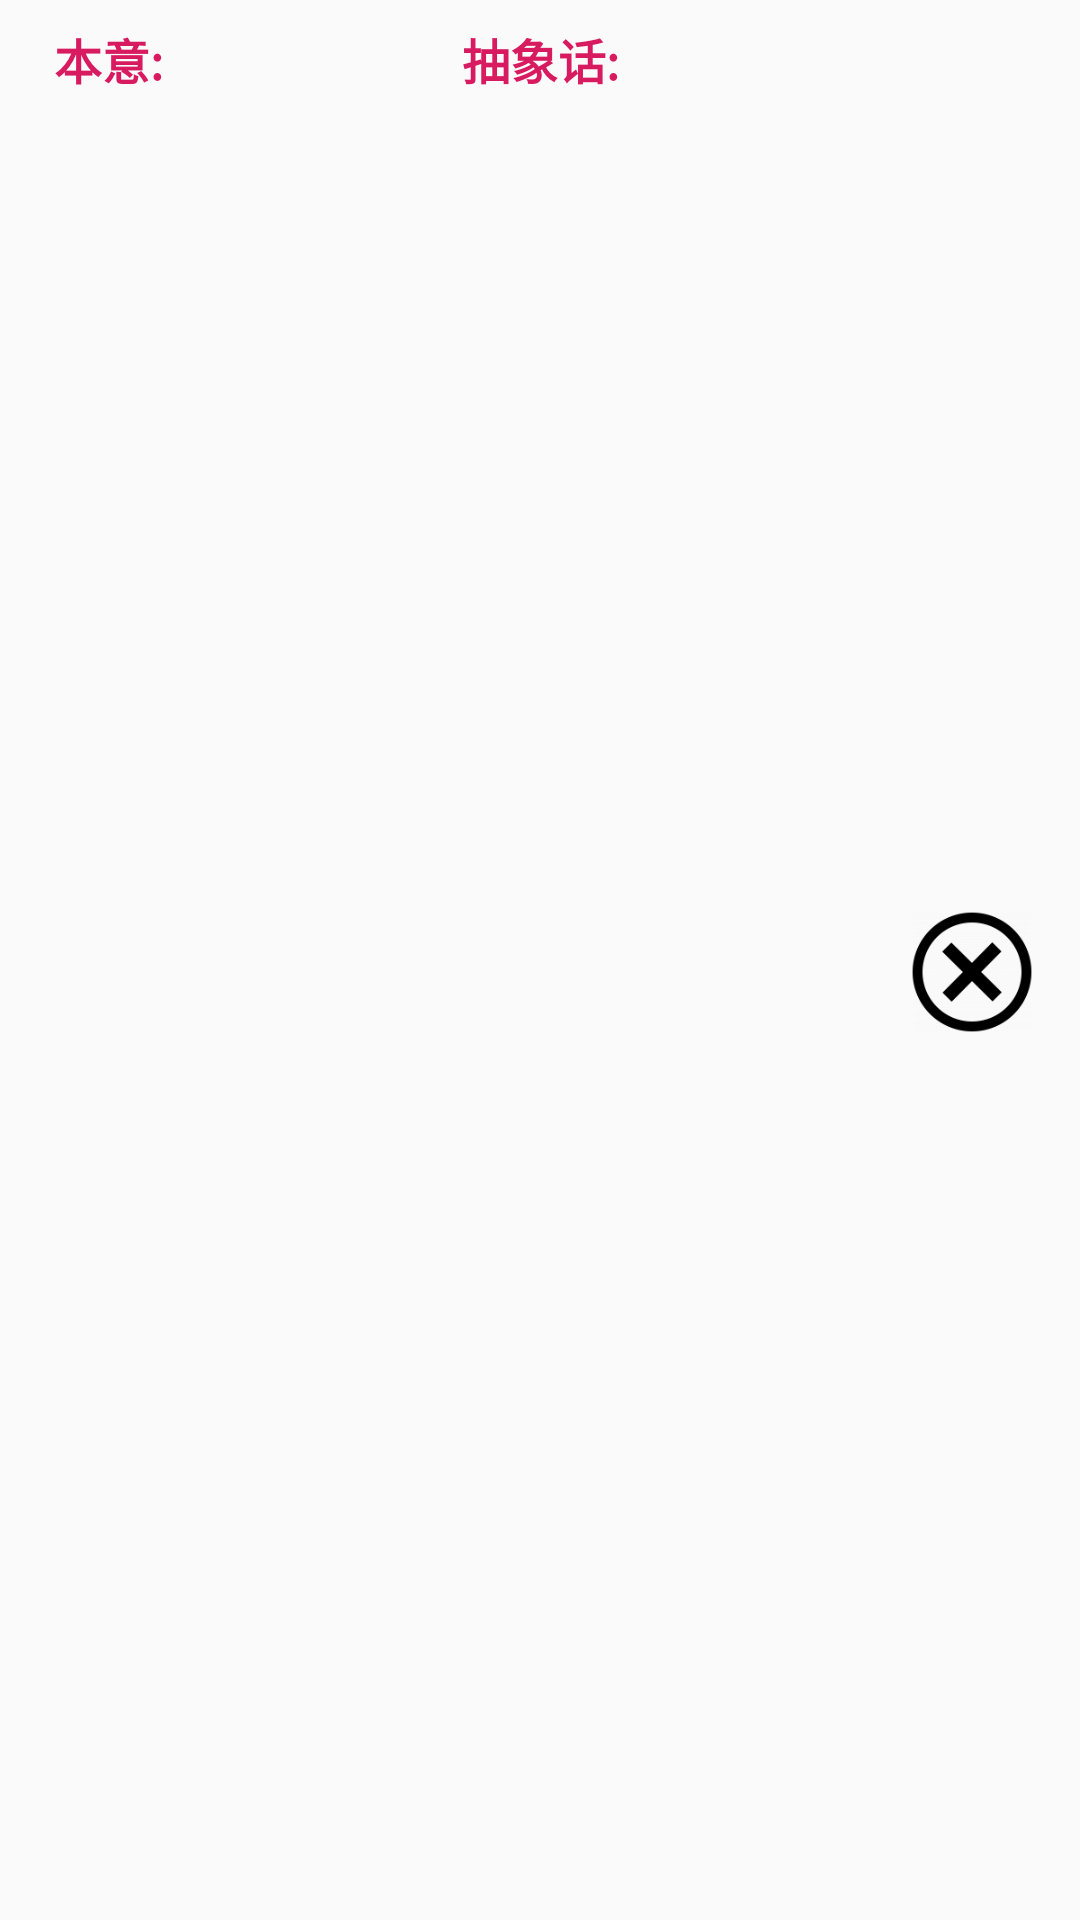

Named icons in this screenshot (1080 x 1920) and their centers, [x,y]:
delete round: [972,972]
